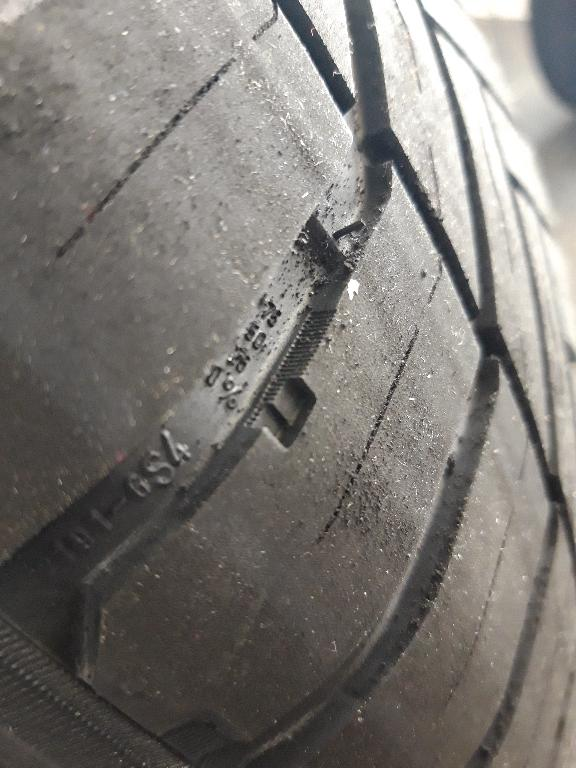temoin:50: (234, 351, 342, 460)
